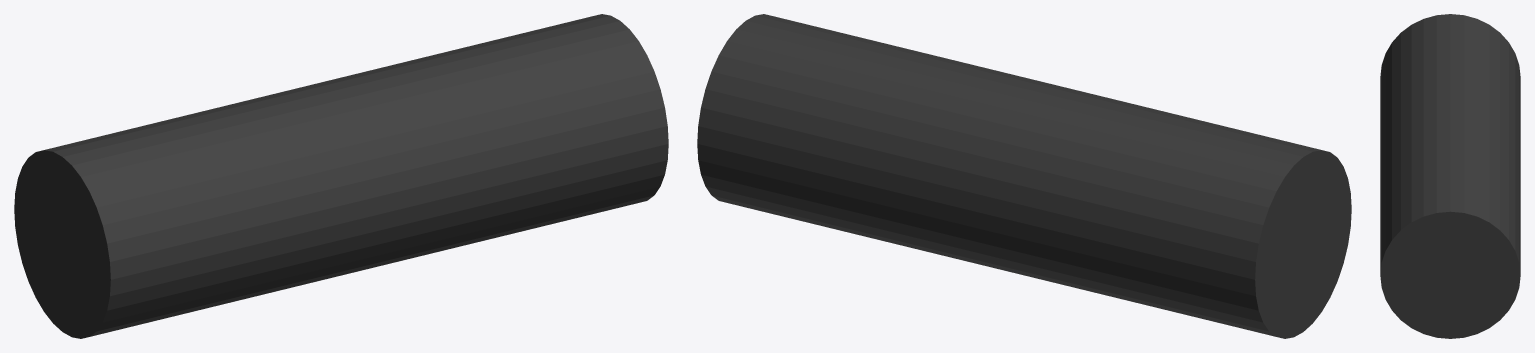
File: Rod.obj
3 renders of one model, left to right at view 1: azimuth 30°, elevation 25°; view 2: azimuth 150°, elevation 25°; view 3: azimuth 270°, elevation 25°, orthographic. The views are drawn at different scales.
Visible parts, largest first — view 1: Cylinder; view 2: Cylinder; view 3: Cylinder.
Part boxes in pixels (<box>): Cylinder: <box>14,14,668,338</box>; Cylinder: <box>697,14,1351,338</box>; Cylinder: <box>1380,14,1520,338</box>.
Size of the model in its own units: 2 by 0.6 by 0.6.
Materials: 1 (1 with a texture image).
